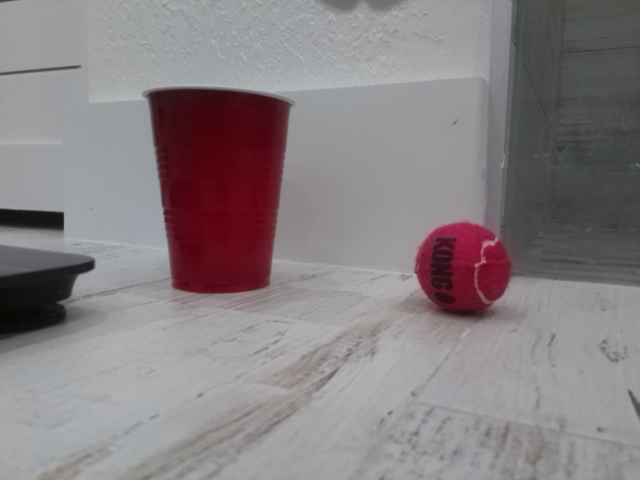red-ball: (413, 221, 513, 317)
